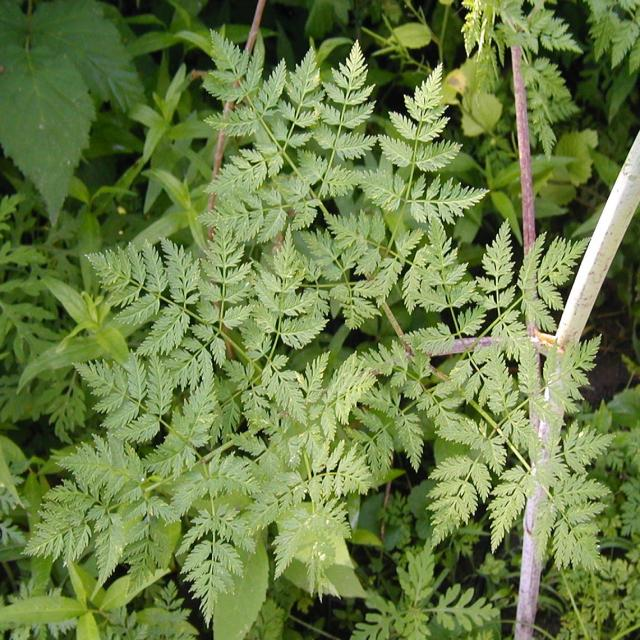Poisonous-Hemlock: (83, 42, 525, 640)
